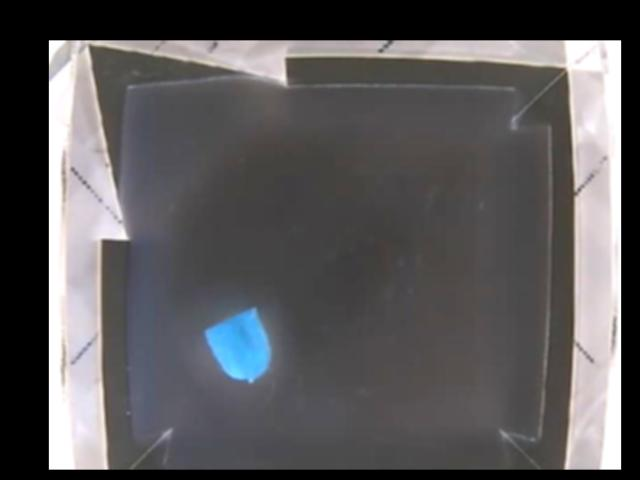Carrot: (203, 306, 271, 382)
